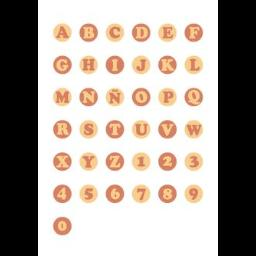g: (51, 54, 75, 78)
h: (79, 55, 103, 79)
i: (106, 54, 124, 74)
q: (184, 88, 206, 110)
r: (48, 118, 76, 138)
u: (134, 123, 152, 141)
